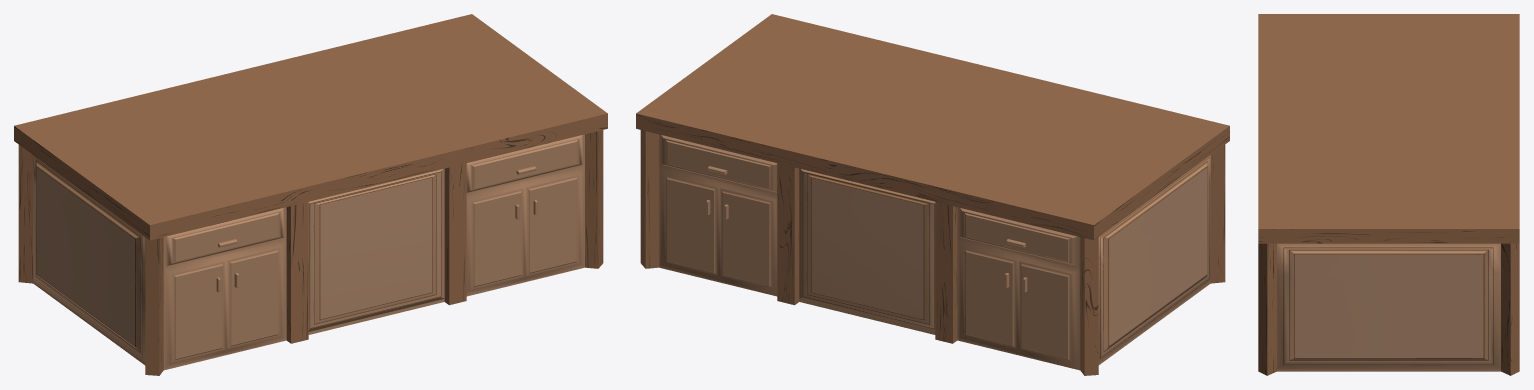
Rendered from counter.fbx.
The picture shows the model from 3 angles, left to right: view 1: azimuth 30°, elevation 25°; view 2: azimuth 150°, elevation 25°; view 3: azimuth 270°, elevation 25°; orthographic projection. The views are drawn at different scales.
Visible parts, largest first — view 1: geo_counter1; view 2: geo_counter1; view 3: geo_counter1.
Part boxes in pixels (x1,y1,x2,y2): geo_counter1: [14, 14, 607, 375]; geo_counter1: [636, 14, 1229, 375]; geo_counter1: [1258, 14, 1519, 375].
Size of the model in its own units: 554 by 177 by 284.
1 material, 1 textured.
